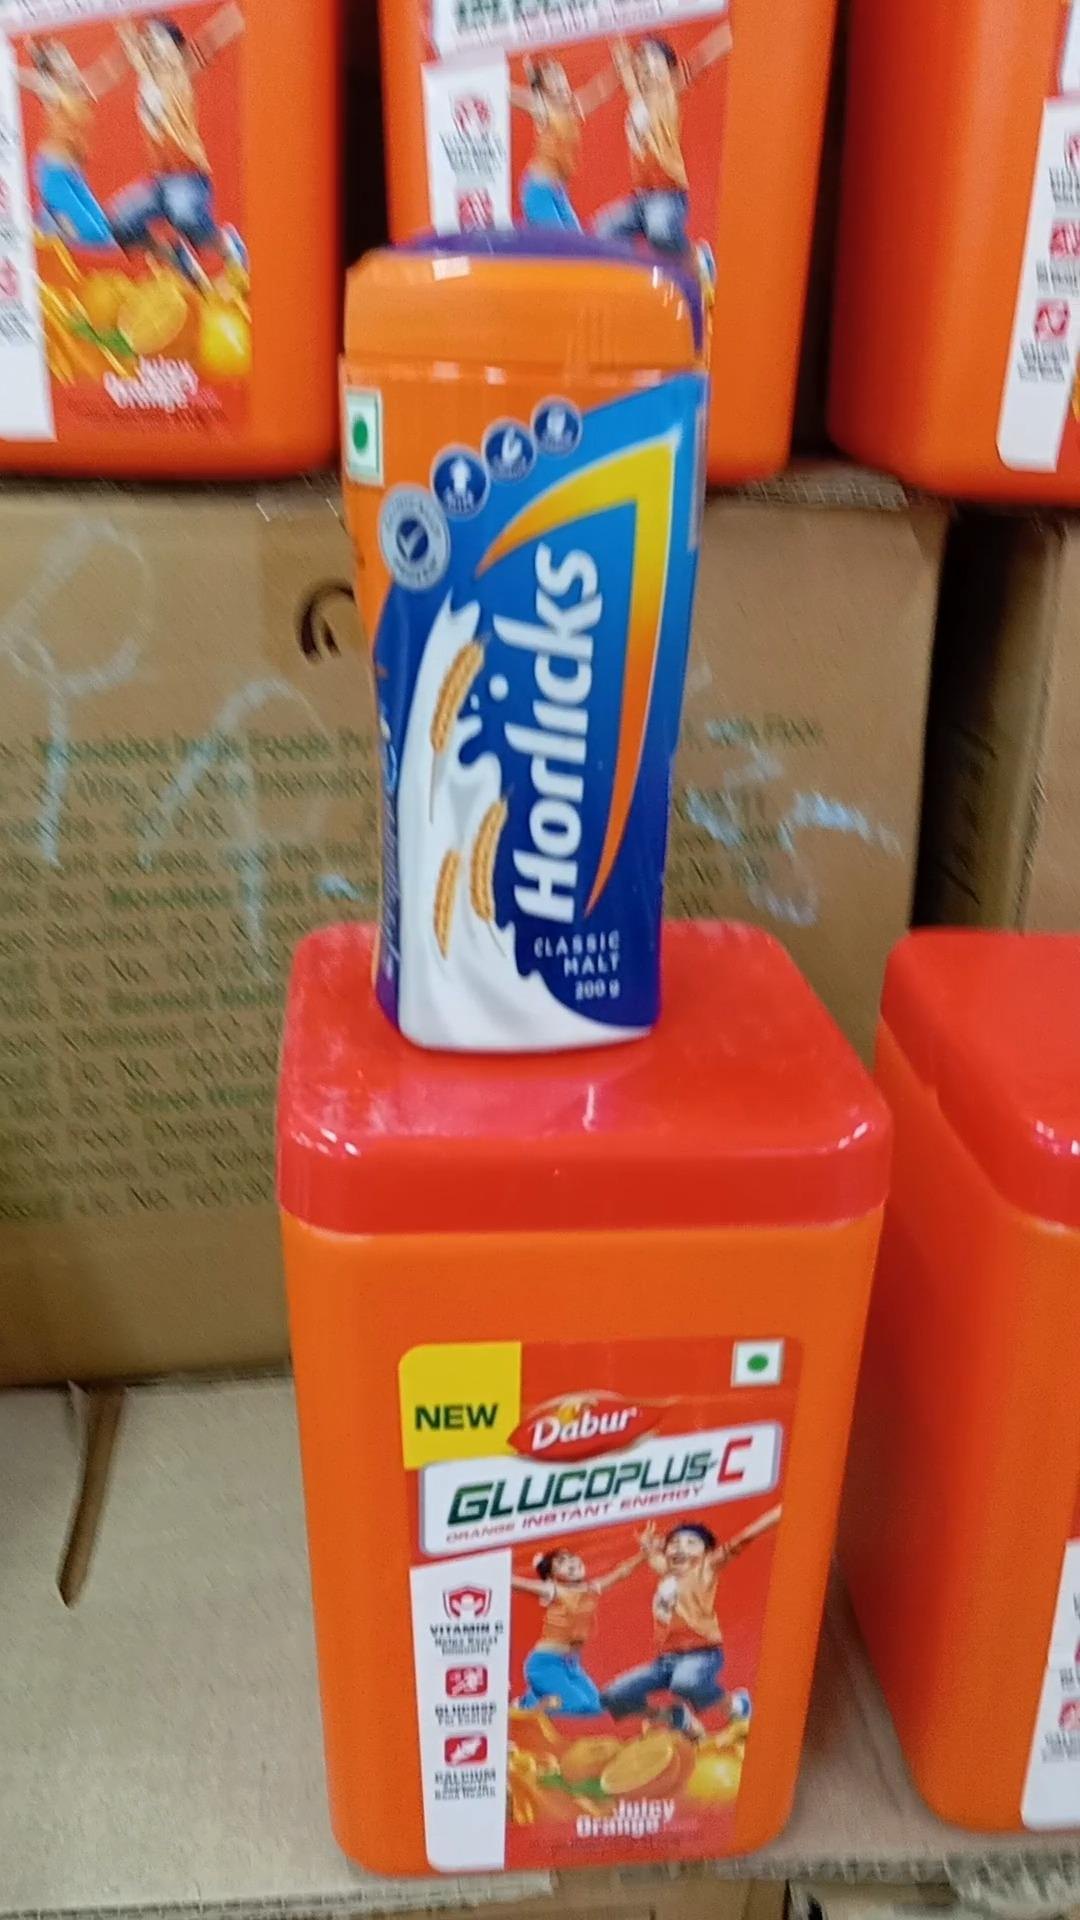HORLICK_CLASSIC_MALT_200_G_JAR: (356, 239, 674, 1047)
